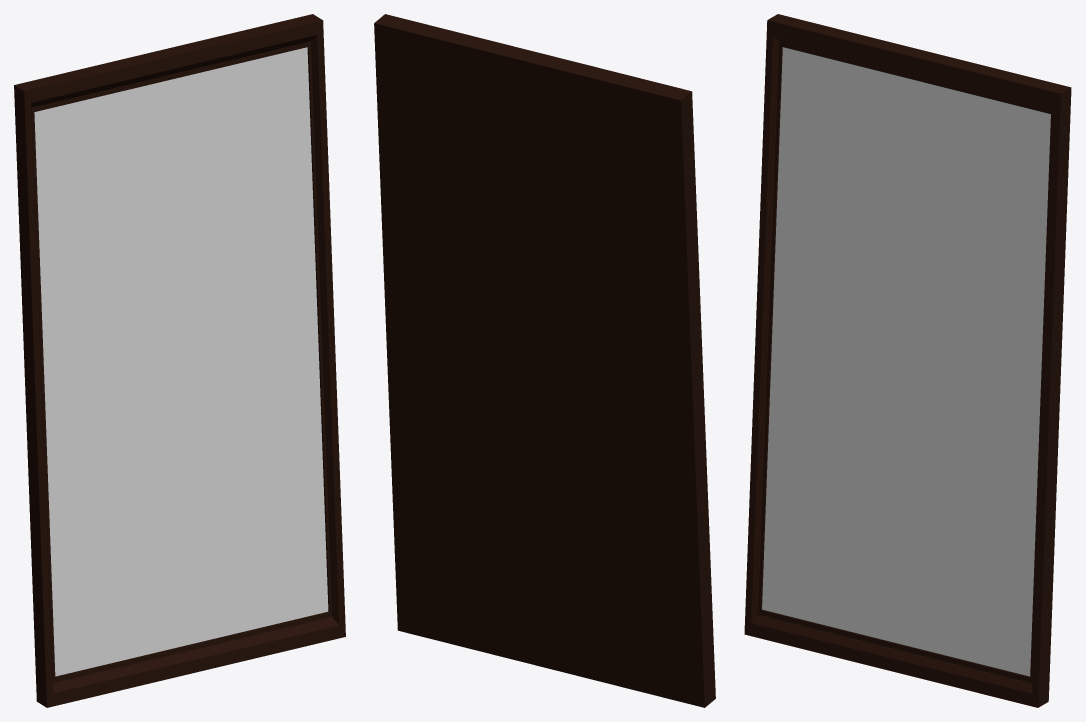
3 views of the same model, side by side, from view 1: azimuth 30°, elevation 25°; view 2: azimuth 150°, elevation 25°; view 3: azimuth 330°, elevation 25° (orthographic). The views are drawn at different scales.
Visible parts, largest first — view 1: Mirror 4.001; view 2: Mirror 4.001; view 3: Mirror 4.001.
Part boxes in pixels (x1,y1,x2,y2): Mirror 4.001: (14, 14, 345, 707); Mirror 4.001: (374, 14, 715, 707); Mirror 4.001: (744, 14, 1071, 707).
Size of the model in its own units: 103 by 199 by 21.28.
